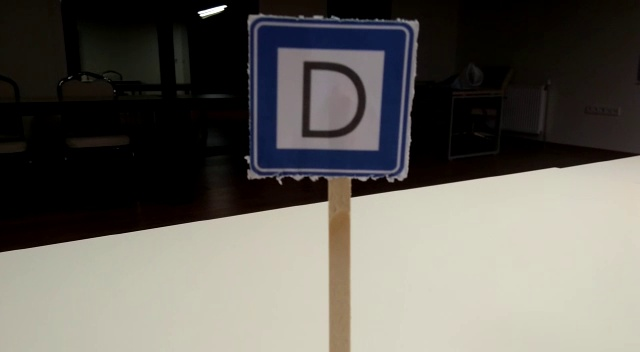durak: (247, 21, 415, 178)
